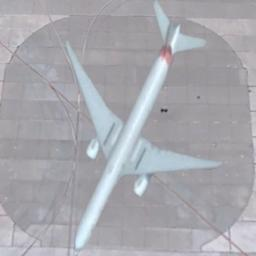Airplane: (56, 0, 225, 252)
